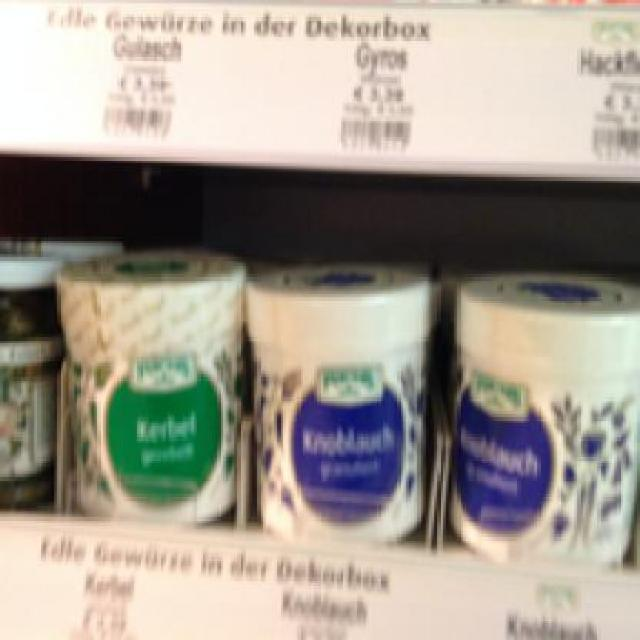Spices: (442, 266, 638, 563), (236, 257, 429, 540), (55, 245, 232, 518)
